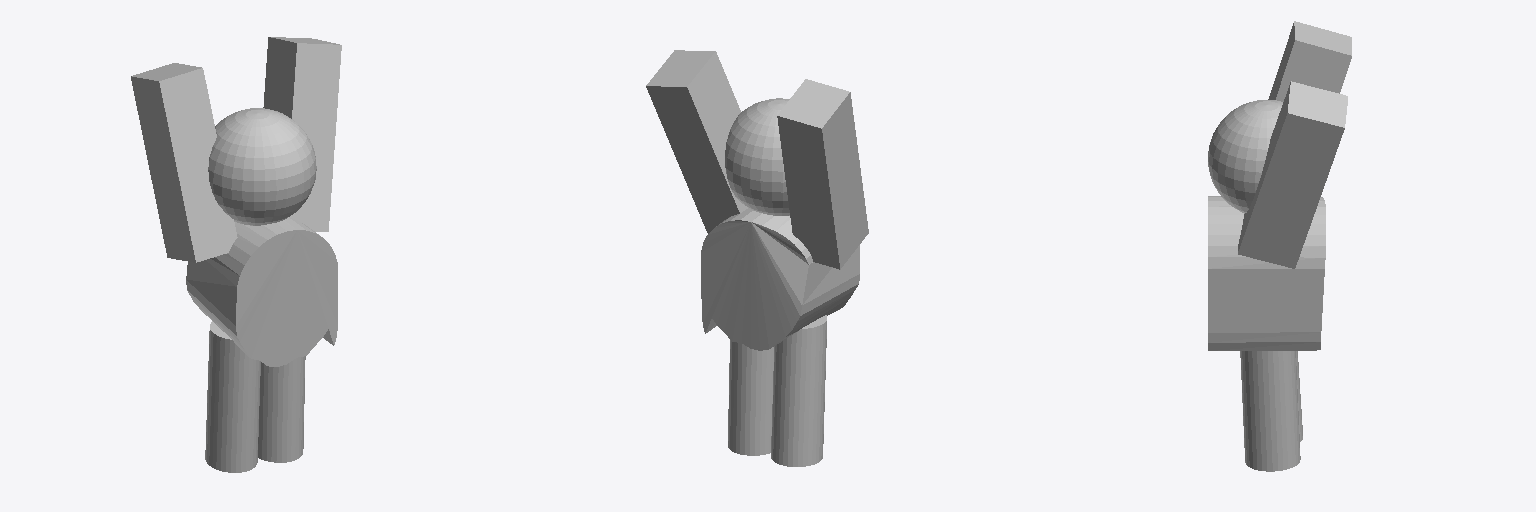
File: Figurine158.obj
The picture shows the model from 3 angles: view 1: azimuth 30°, elevation 25°; view 2: azimuth 150°, elevation 25°; view 3: azimuth 270°, elevation 25°; orthographic projection.
Visible parts, largest first — view 1: Cylinder; view 2: Cylinder; view 3: Cylinder.
Boxes of the visible parts, box(x1,y1,x2,y2) form: Cylinder: box(131, 37, 341, 472); Cylinder: box(646, 50, 868, 466); Cylinder: box(1208, 21, 1351, 471).
Bounding box in the file's own units: 3.49 × 7.35 × 2.44.